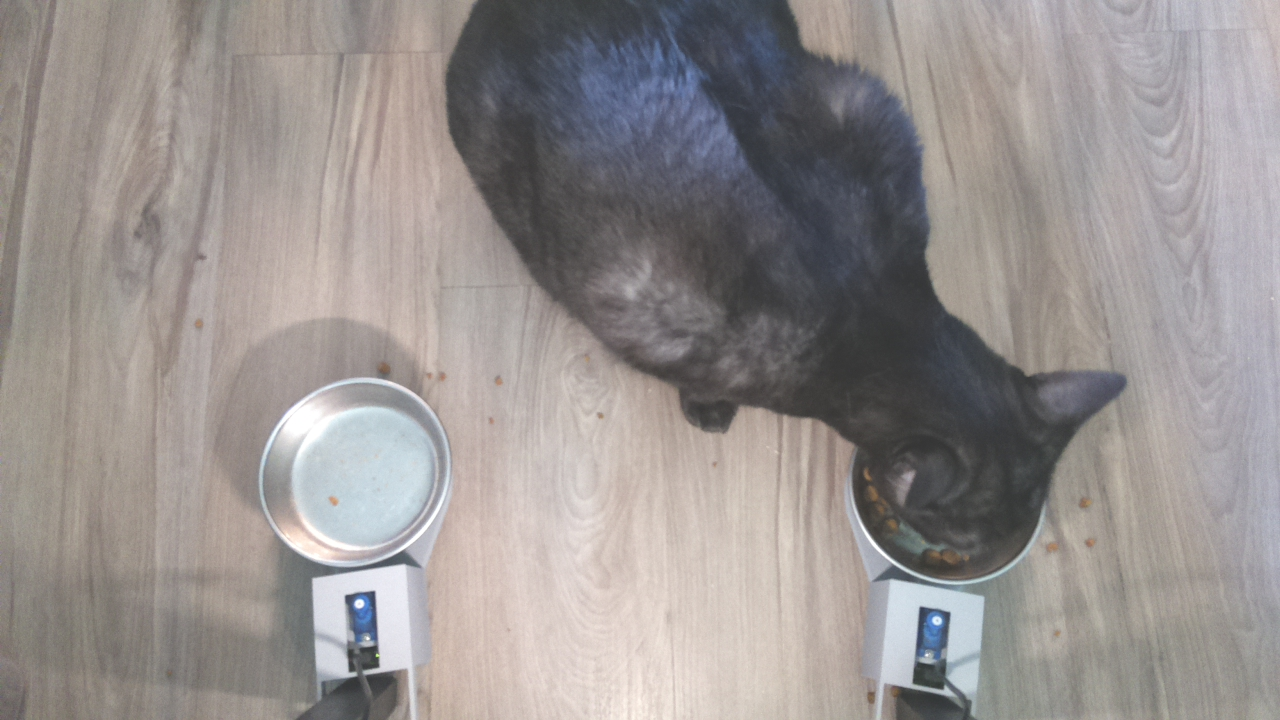open_bowl: (255, 376, 458, 569)
saki_eating: (840, 316, 1137, 597)
